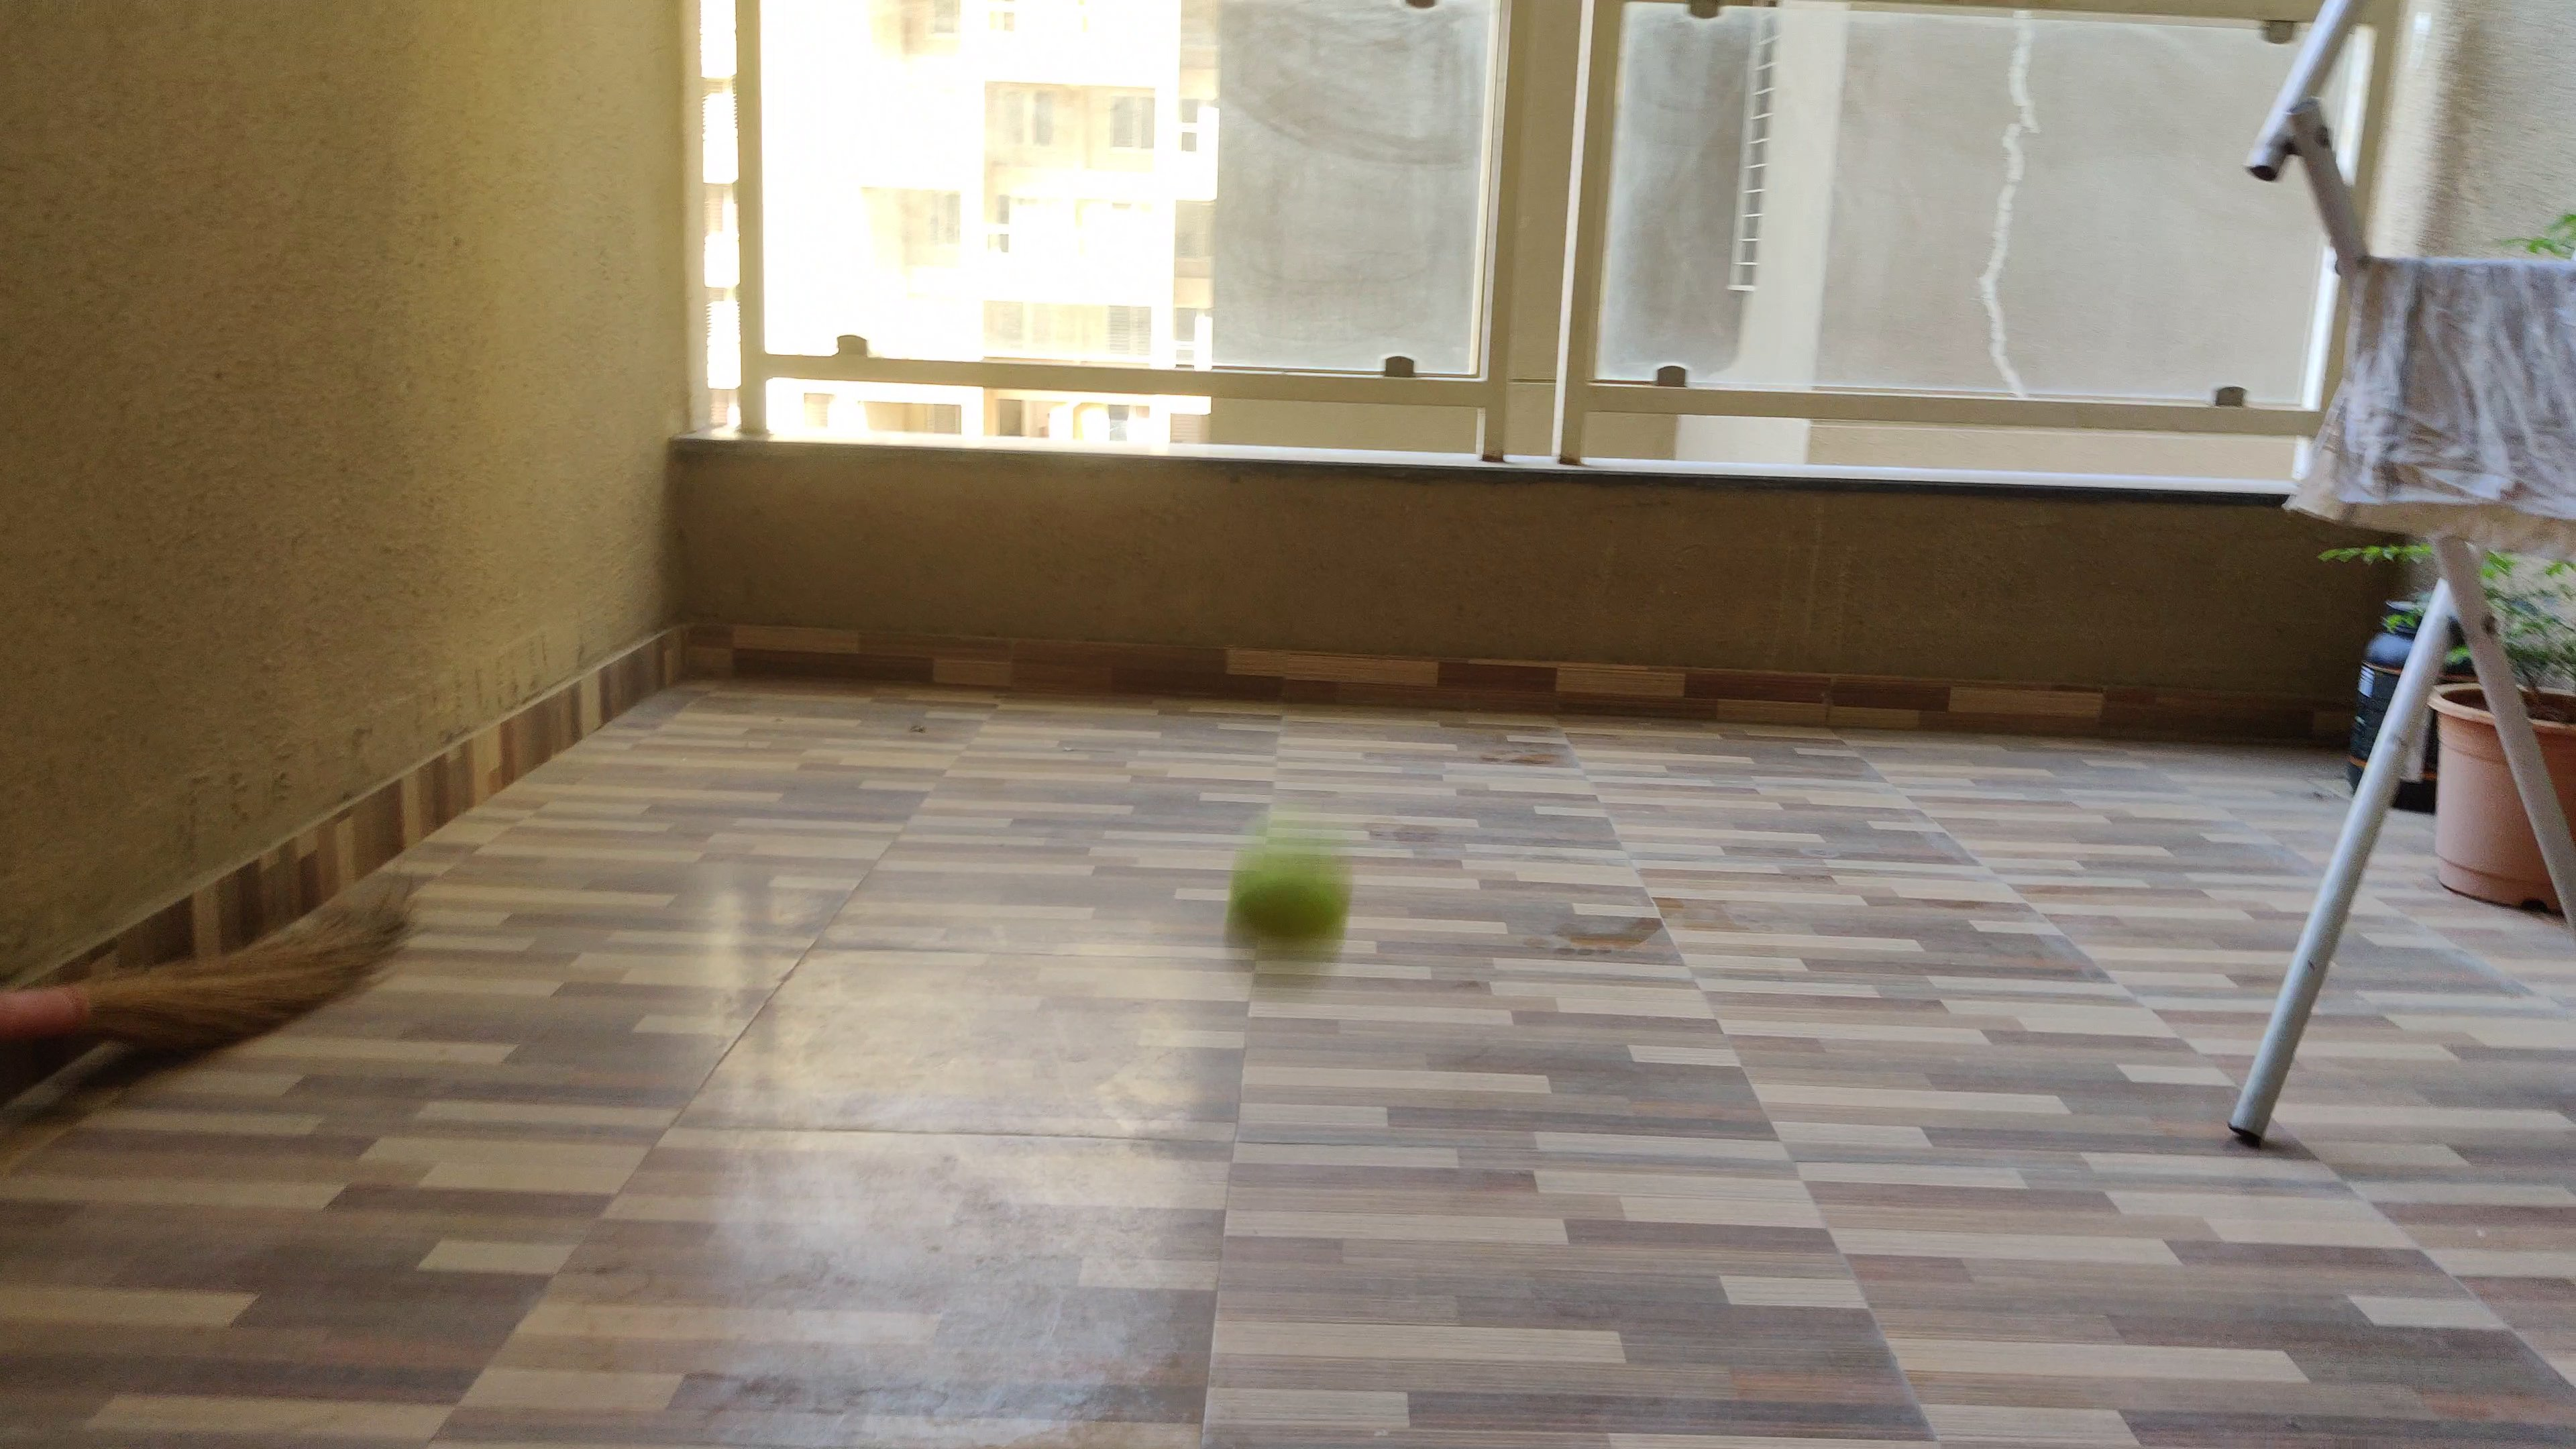Tennis-Ball: (1223, 802, 1354, 959)
